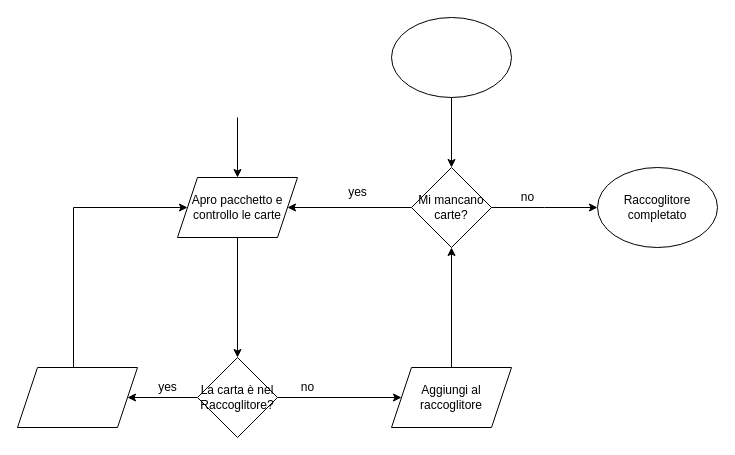
This 735x455 diagram has some shape labels left out. The box of each missing label's shape, as (x1, y1, x2, y2) in pixels:
Mazzo doppioni: (16, 366, 138, 428)
Raccoglitore: (390, 16, 512, 98)
